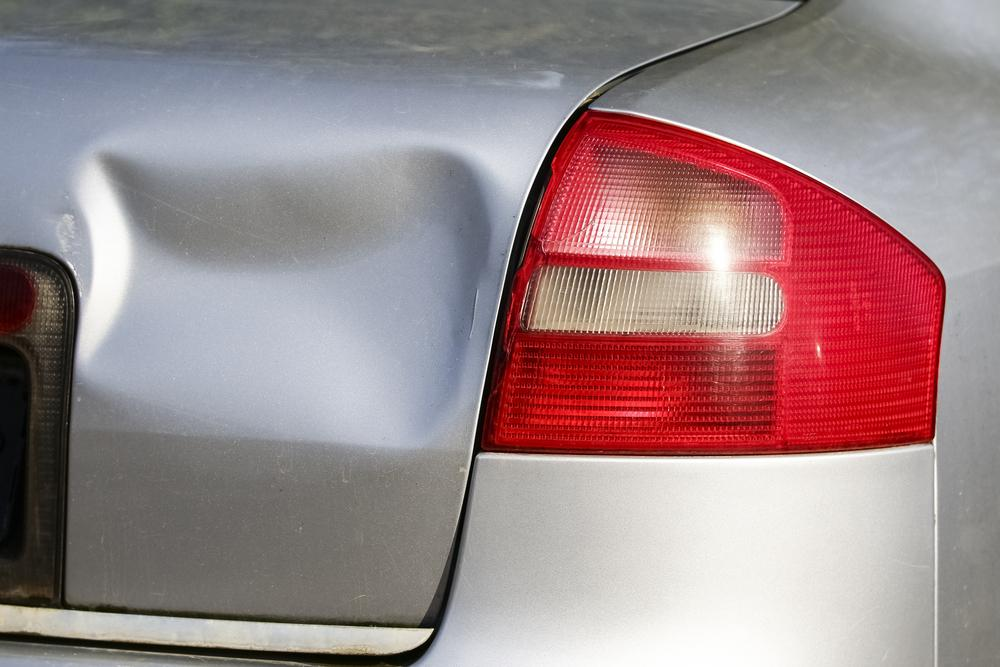dent: (71, 149, 488, 447)
